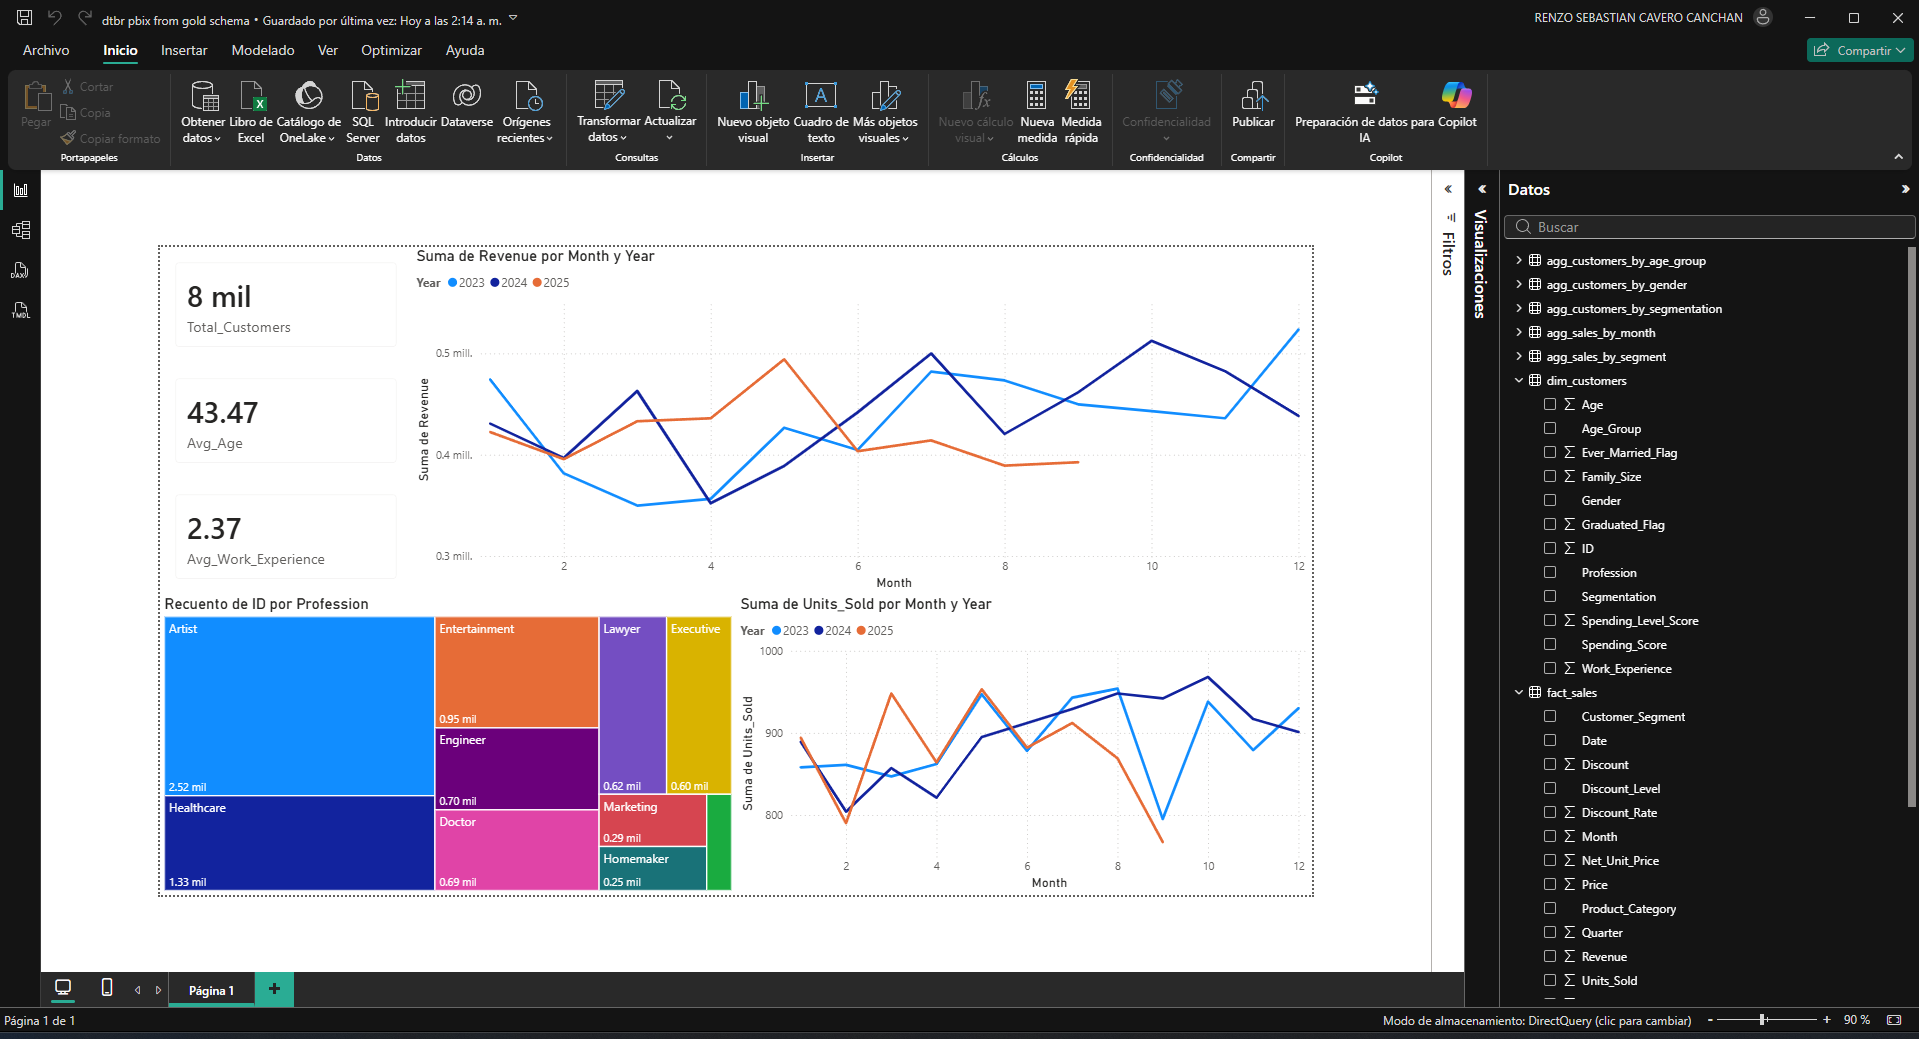

The page's visual inventory and layout, read from the dashboard file:
{"tool":"powerbi","page":{"name":"Página 1","canvas":[1280,720],"ordinal":0},"visuals":[{"type":"cardVisual","fields":{"Data":["Sum(kpi_customers.Total_Customers)"]},"box":[0,0,280,128.9],"z":0},{"type":"cardVisual","fields":{"Data":["Sum(kpi_customers.Avg_Age)"]},"box":[0,128.9,280,128.9],"z":2},{"type":"cardVisual","fields":{"Data":["Sum(kpi_customers.Avg_Work_Experience)"]},"box":[0,257.8,280,128.9],"z":3},{"type":"lineChart","fields":{"Category":["fact_sales.Month"],"Y":["Sum(fact_sales.Revenue)"],"Series":["fact_sales.Year"]},"box":[280,0,1000,386.7],"z":4},{"type":"treemap","fields":{"Group":["dim_customers.Profession"],"Values":["CountNonNull(dim_customers.ID)"]},"box":[0,386.7,640,333.3],"z":5},{"type":"lineChart","fields":{"Category":["fact_sales.Month"],"Series":["fact_sales.Year"],"Y":["Sum(fact_sales.Units_Sold)"]},"box":[640,386.7,640,333.3],"z":6}]}

Visuals, with their boxes on the page's 1280x720 design canvas (x1, y1, x2, y2). These are canvas units, not pixel positions in the 1919x1039 screenshot, which may show the page scaled, cropped or inside an application window:
cardVisual - Sum(kpi_customers.Total_Customers): 0, 0, 280, 129
cardVisual - Sum(kpi_customers.Avg_Age): 0, 129, 280, 258
cardVisual - Sum(kpi_customers.Avg_Work_Experience): 0, 258, 280, 387
lineChart - fact_sales.Month x Sum(fact_sales.Revenue): 280, 0, 1280, 387
treemap - dim_customers.Profession x CountNonNull(dim_customers.ID): 0, 387, 640, 720
lineChart - fact_sales.Month x fact_sales.Year: 640, 387, 1280, 720
